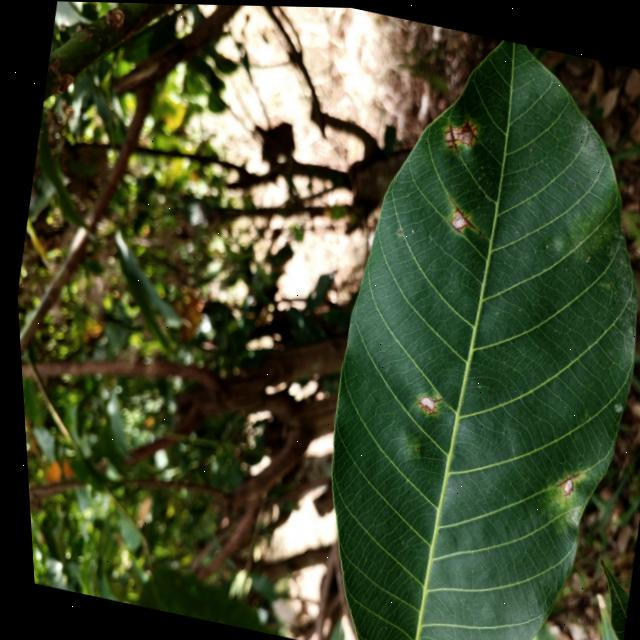Colletotrichum: (409, 445, 413, 448)
Corynespora: (447, 203, 482, 233), (405, 391, 440, 416), (546, 468, 574, 496), (438, 121, 461, 152), (459, 114, 480, 140), (442, 218, 461, 233)
Leaf-Blight: (447, 121, 473, 145), (446, 208, 466, 229), (442, 129, 450, 140)
